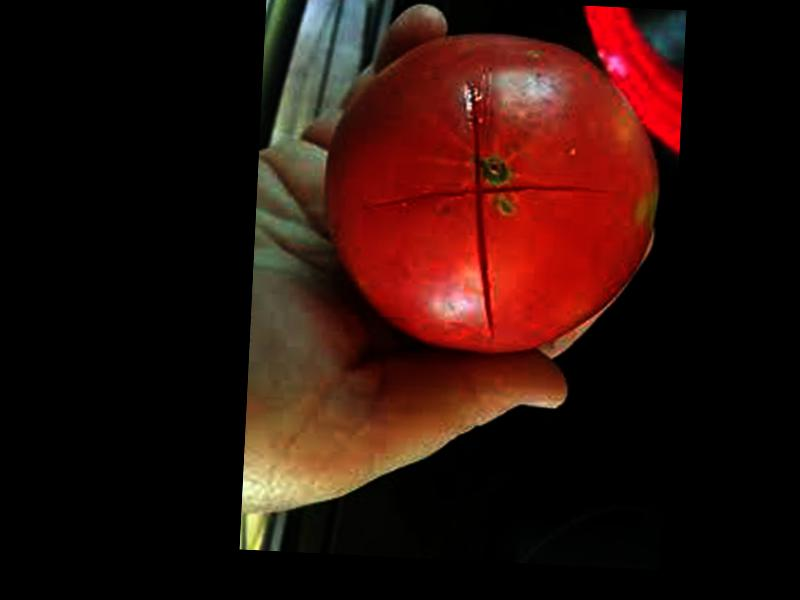Tomato: (316, 22, 665, 363)
